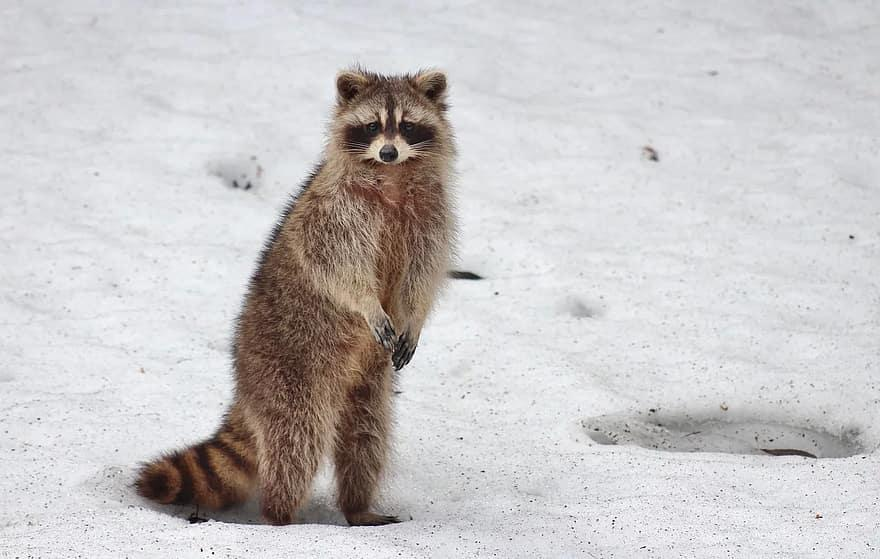raccoon: (144, 65, 462, 530)
